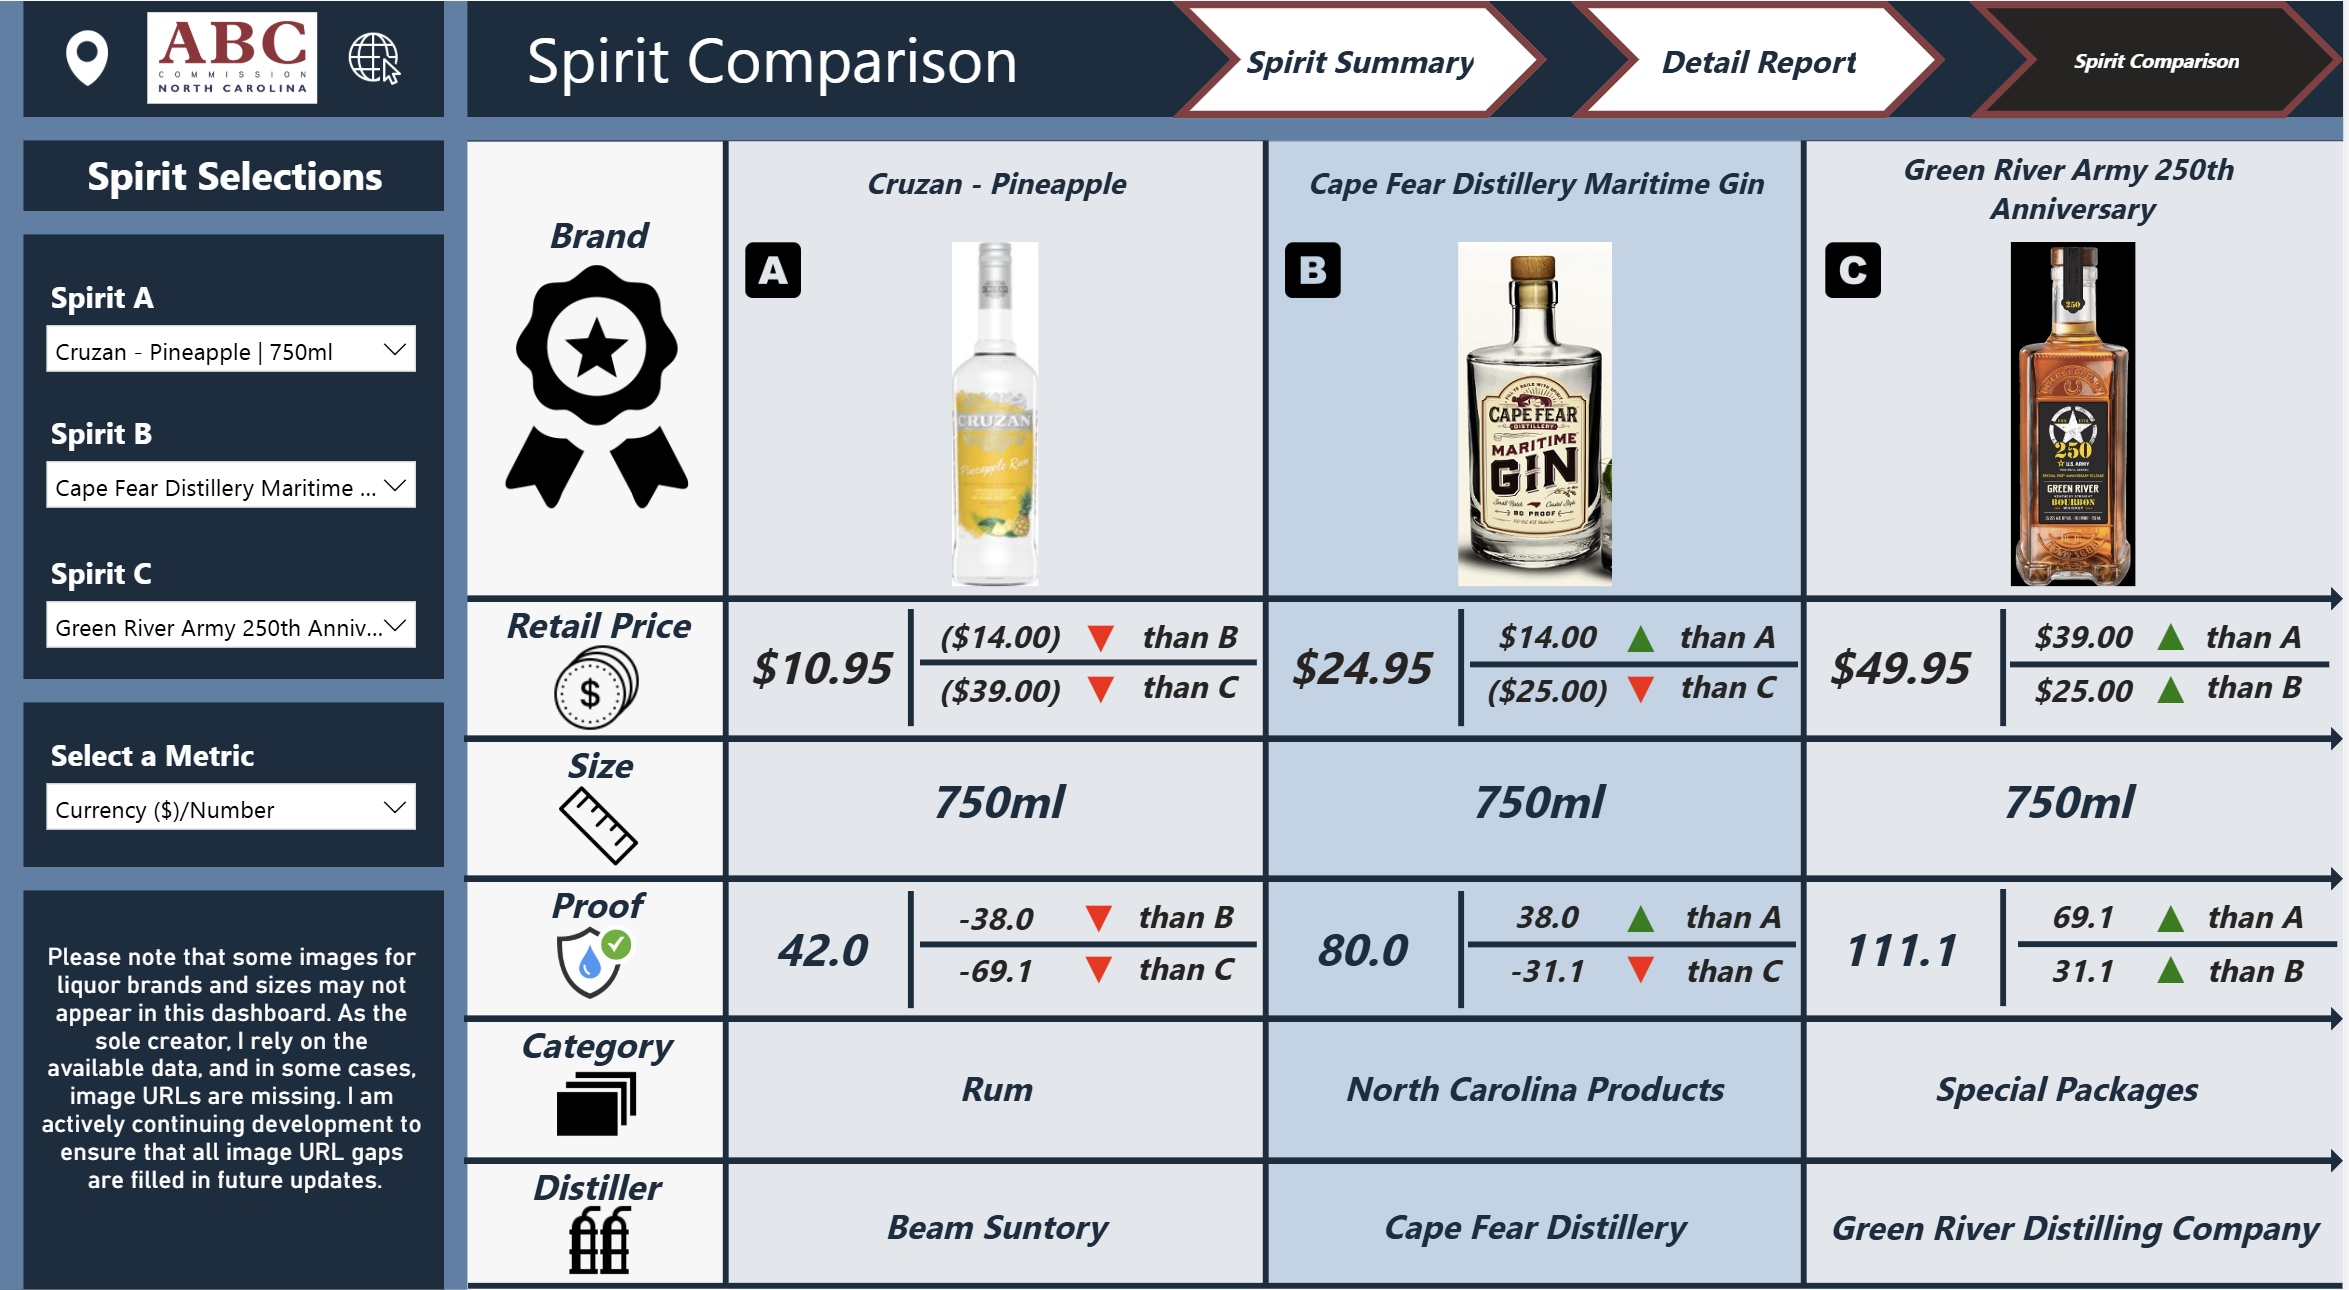

The dashboard page shown, as its layout file describes it:
{"tool":"powerbi","page":{"name":"Spirit Comparison","canvas":[1600,900],"ordinal":2},"visuals":[{"type":"shape","box":[0,16,304,880],"z":0},{"type":"shape","box":[0,16,1600,96],"z":1000},{"type":"slicer","title":"Selected Metric Slicer","fields":{"Values":["Brand 1 Table.Brand and Size"]},"box":[22,199.8,272,78],"z":1000,"group":"g1"},{"type":"slicer","title":"Selected Metric Slicer","fields":{"Values":["Brand 2 Table.Brand and Size"]},"box":[22,292.3,272,78],"z":1000,"group":"g2"},{"type":"slicer","title":"Selected Metric Slicer","fields":{"Values":["Brand 3 Table.Brand and Size"]},"box":[22,388.3,272,78],"z":2000},{"type":"textbox","box":[208,20,640,80],"z":3000},{"type":"image","box":[96,15,126,80],"z":4000},{"type":"actionButton","title":"Supplier Info Icon","box":[1504,438,32,32],"z":5000},{"type":"shape","box":[1232,112,368,784],"z":6000},{"type":"shape","box":[497,112,368,784],"z":7000},{"type":"shape","box":[864,111,368,785],"z":8000},{"type":"shape","box":[317,416,1283,16],"z":9000},{"type":"shape","box":[432,111,128,784],"z":10000},{"type":"shape","box":[800,111,128,784],"z":11000},{"type":"shape","box":[1168,111,128,784],"z":12000},{"type":"card","fields":{"Values":["Min(Metric Selector.Proof Heading)"]},"box":[318.9,602.4,176,64],"z":13000},{"type":"card","fields":{"Values":["Min(Metric Selector.Size Heading)"]},"box":[320.3,506.5,176,64],"z":14000},{"type":"card","fields":{"Values":["Min(Metric Selector.Retail Price Heading)"]},"box":[319.6,410.9,176,64],"z":15000},{"type":"card","fields":{"Values":["Min(Metric Selector.Category Heading)"]},"box":[318.9,698.4,176,64],"z":16000},{"type":"card","fields":{"Values":["Min(Metric Selector.Distiller Heading)"]},"box":[318.9,794.4,176,64],"z":17000},{"type":"image","box":[368.3,547.5,80,64],"z":18000},{"type":"image","box":[368,640,80,64],"z":19000},{"type":"image","box":[368,738,80,64],"z":20000},{"type":"simpleImageEBC4593F96F1425FB3D84C5BF02B5075","fields":{"imageURL":["Brand 1 Table.Product Image"]},"box":[496,176,368,245],"z":21000},{"type":"card","fields":{"Values":["Sum(Brand 1 Table.Retail Price)"]},"box":[496,432,128,80],"z":22000},{"type":"card","fields":{"Values":["Min(Brand 1 Table.Size (ml/L))"]},"box":[496.3,523,368,80],"z":23000},{"type":"card","fields":{"Values":["Sum(Brand 1 Table.Proof)"]},"box":[496,624,128,80],"z":24000},{"type":"card","fields":{"Values":["Min(Brand 1 Table.Product Category)"]},"box":[496,715,368,89],"z":25000},{"type":"card","fields":{"Values":["Min(Brand 1 Table.Distiller)"]},"box":[496,812,368,84],"z":26000},{"type":"card","fields":{"Values":["Min(Brand 1 Table.Brand)"]},"box":[496,102,368,80],"z":27000},{"type":"simpleImageEBC4593F96F1425FB3D84C5BF02B5075","fields":{"imageURL":["Brand 2 Table.Product Image"]},"box":[864,176,368,245],"z":28000},{"type":"card","fields":{"Values":["Sum(Brand 2 Table.Retail Price)"]},"box":[864,432,128,80],"z":29000},{"type":"card","fields":{"Values":["Min(Brand 2 Table.Size (ml/L))"]},"box":[863.9,522.5,368,80],"z":30000},{"type":"card","fields":{"Values":["Sum(Brand 2 Table.Proof)"]},"box":[864,624,128,80],"z":31000},{"type":"card","fields":{"Values":["Min(Brand 2 Table.Product Category)"]},"box":[863.5,715,368,89],"z":32000},{"type":"card","fields":{"Values":["Min(Brand 2 Table.Distiller)"]},"box":[863.5,812,368,84],"z":33000},{"type":"card","fields":{"Values":["Min(Brand 2 Table.Brand)"]},"box":[864,102,368,80],"z":34000},{"type":"image","box":[368,832,80,64],"z":35000},{"type":"simpleImageEBC4593F96F1425FB3D84C5BF02B5075","fields":{"imageURL":["Brand 3 Table.Product Image"]},"box":[1232,176,368,245],"z":36000},{"type":"card","fields":{"Values":["Sum(Brand 3 Table.Retail Price)"]},"box":[1232,432,128,80],"z":37000},{"type":"card","fields":{"Values":["Min(Brand 3 Table.Size (ml/L))"]},"box":[1226.5,523,368,80],"z":38000},{"type":"card","fields":{"Values":["Sum(Brand 3 Table.Proof)"]},"box":[1232,624,128,80],"z":39000},{"type":"card","fields":{"Values":["Min(Brand 3 Table.Product Category)"]},"box":[1226.2,715.6,368,89],"z":40000},{"type":"card","fields":{"Values":["Min(Brand 3 Table.Distiller)"]},"box":[1232,816,368,80],"z":41000},{"type":"card","fields":{"Values":["Min(Brand 3 Table.Brand)"]},"box":[1230,102.6,368,80],"z":42000},{"type":"shape","box":[303,16,16,880],"z":43000},{"type":"shape","box":[0,96,1600,16],"z":44000},{"type":"card","fields":{"Values":["Metric Selector.Make Selection Heading"]},"box":[16,112,288,48],"z":45000},{"type":"shape","box":[317,512,1283,16],"z":46000},{"type":"shape","box":[317,608,1283,16],"z":47000},{"type":"shape","box":[317,704,1283,16],"z":48000},{"type":"shape","box":[317,800,1283,16],"z":49000},{"type":"card","fields":{"Values":["Min(Metric Selector.Brand Heading)"]},"box":[320,145,176,64],"z":50000},{"type":"image","box":[368,445,80,80],"z":51000},{"type":"image","box":[320,160,176,240],"z":52000},{"type":"card","fields":{"Values":["Final Product List.Direction Arrow Price B-A"]},"box":[1088,427,64,48],"z":53000},{"type":"card","fields":{"Values":["Final Product List.Direction Arrow Price B-C"]},"box":[1088,464,64,44],"z":54000},{"type":"card","fields":{"Values":["Metric Selector.From A Text"]},"box":[1123,427.1,112,48],"z":55000},{"type":"card","fields":{"Values":["Metric Selector.From C Text"]},"box":[1123,462,112,48],"z":56000},{"type":"shape","box":[974,432,48,80],"z":57000},{"type":"card","fields":{"Values":["Final Product List.Retail Price B-A Switch"]},"box":[1003,428,106,48],"z":58000},{"type":"card","fields":{"Values":["Final Product List.Retail Price B-C Switch"]},"box":[1003,464,106,48],"z":59000},{"type":"card","fields":{"Values":["Final Product List.Direction Arrow Price A-B"]},"box":[719.6,427,64,48],"z":60000},{"type":"card","fields":{"Values":["Final Product List.Direction Arrow Price A-C"]},"box":[719.6,464,64,44],"z":61000},{"type":"card","fields":{"Values":["Metric Selector.From B Text"]},"box":[754.6,427.1,112,48],"z":62000},{"type":"card","fields":{"Values":["Metric Selector.From C Text"]},"box":[754.6,462,112,48],"z":63000},{"type":"card","fields":{"Values":["Final Product List.Retail Price A-B Switch"]},"box":[626,428,113,48],"z":64000},{"type":"card","fields":{"Values":["Final Product List.Retail Price A-C Switch"]},"box":[626,464,113,48],"z":65000},{"type":"card","fields":{"Values":["Final Product List.Direction Arrow Price C-A"]},"box":[1450,426,64,48],"z":66000},{"type":"card","fields":{"Values":["Final Product List.Direction Arrow Price C-B"]},"box":[1450,464,64,44],"z":67000},{"type":"card","fields":{"Values":["Metric Selector.From A Text"]},"box":[1482,427,112,48],"z":68000},{"type":"card","fields":{"Values":["Metric Selector.From B Text"]},"box":[1482,462,112,48],"z":69000},{"type":"card","fields":{"Values":["Final Product List.Retail Price C-A Switch"]},"box":[1368,428,106,48],"z":70000},{"type":"card","fields":{"Values":["Final Product List.Retail Price C-B Switch"]},"box":[1368,464,106,48],"z":71000},{"type":"shape","box":[1344,432,48,80],"z":72000},{"type":"shape","box":[590,432,64,80],"z":73000},{"type":"card","fields":{"Values":["Final Product List.Direction Arrow Proof A-B"]},"box":[718.1,619,64,48],"z":74000},{"type":"card","fields":{"Values":["Final Product List.Direction Arrow Proof A-C"]},"box":[718.1,656,64,44],"z":75000},{"type":"card","fields":{"Values":["Metric Selector.From B Text"]},"box":[753.1,619.1,112,48],"z":76000},{"type":"card","fields":{"Values":["Metric Selector.From C Text"]},"box":[753.1,654,112,48],"z":77000},{"type":"card","fields":{"Values":["Final Product List.Proof A-B Switch"]},"box":[626,620,106,48],"z":78000},{"type":"card","fields":{"Values":["Final Product List.Proof A-C Switch"]},"box":[626,656,106,48],"z":79000},{"type":"shape","box":[590.5,624,64,80],"z":80000},{"type":"card","fields":{"Values":["Final Product List.Direction Arrow Proof B-A"]},"box":[1088,619.1,64,48],"z":81000},{"type":"card","fields":{"Values":["Final Product List.Direction Arrow Proof B-C"]},"box":[1088,655,64,44],"z":82000},{"type":"card","fields":{"Values":["Metric Selector.From A Text"]},"box":[1127.2,619.2,112,48],"z":83000},{"type":"card","fields":{"Values":["Metric Selector.From C Text"]},"box":[1127.2,655,112,48],"z":84000},{"type":"card","fields":{"Values":["Final Product List.Proof B-A Switch"]},"box":[1003,619,106,48],"z":85000},{"type":"card","fields":{"Values":["Final Product List.Proof B-C Switch"]},"box":[1003,655,106,48],"z":86000},{"type":"shape","box":[974,624.2,48,80],"z":87000},{"type":"card","fields":{"Values":["Final Product List.Direction Arrow Proof C-A"]},"box":[1450,619,64,48],"z":88000},{"type":"card","fields":{"Values":["Final Product List.Direction Arrow Proof C-B"]},"box":[1450,655,64,44],"z":89000},{"type":"card","fields":{"Values":["Metric Selector.From A Text"]},"box":[1483.1,619,112,48],"z":90000},{"type":"card","fields":{"Values":["Metric Selector.From B Text"]},"box":[1483.1,655,112,48],"z":91000},{"type":"card","fields":{"Values":["Final Product List.Proof C-A Switch"]},"box":[1368,619,106,48],"z":92000},{"type":"card","fields":{"Values":["Final Product List.Proof C-B Switch"]},"box":[1368,655,106,48],"z":93000},{"type":"shape","box":[1344,622.8,48,80],"z":94000},{"type":"shape","box":[0,160,304,16],"z":95000},{"type":"shape","box":[0,16,16,880],"z":96000},{"type":"shape","box":[0,608,304,16],"z":97000},{"type":"image","box":[504,176,48,48],"z":98000},{"type":"image","box":[864,176,64,48],"z":99000},{"type":"image","box":[1242,176,48,48],"z":100000},{"type":"shape","box":[628,452,230,32],"z":101000},{"type":"shape","box":[628,644,230,32],"z":102000},{"type":"shape","box":[1002,644,224,32],"z":103000},{"type":"shape","box":[1004,453,224,32],"z":104000},{"type":"shape","box":[1372,453,218,32],"z":105000},{"type":"shape","box":[1378,636,218,48],"z":106000},{"type":"card","fields":{"Values":["Metric Selector.Disclaimer"]},"box":[16,608,288,272],"z":107000},{"type":"pageNavigator","box":[800,16,800,80],"z":108000},{"type":"image","box":[208,32,96,48],"z":109000},{"type":"shape","box":[319,888,1280,12],"z":110000},{"type":"group","id":"g1","title":"Left Side Slicer Group","box":[22,199.8,272,78],"z":111000},{"type":"group","id":"g2","title":"Left Side Slicer Group","box":[22,292.3,272,78],"z":112000},{"type":"image","box":[35,32,48,48],"z":113000},{"type":"slicer","title":"Selected Metric Slicer","fields":{"Values":["Currency/Number or Percent Difference Selector.Data Format"]},"box":[22,512,272,80],"z":114000},{"type":"shape","box":[0,480,304,16],"z":115000}]}

Visuals, with their boxes in screenshot pixels (x1, y1, x2, y2), scaled from the page's 1600x900 canvas onto the 2349x1290 screenshot:
shape: detection(0, 23, 446, 1284)
shape: detection(0, 23, 2348, 161)
"Selected Metric Slicer" slicer: detection(32, 286, 432, 398)
"Selected Metric Slicer" slicer: detection(32, 419, 432, 531)
"Selected Metric Slicer" slicer: detection(32, 557, 432, 668)
textbox: detection(305, 29, 1245, 143)
image: detection(141, 22, 326, 136)
"Supplier Info Icon" actionButton: detection(2208, 628, 2255, 674)
shape: detection(1809, 161, 2348, 1284)
shape: detection(730, 161, 1270, 1284)
shape: detection(1268, 159, 1809, 1284)
shape: detection(465, 596, 2348, 619)
shape: detection(634, 159, 822, 1283)
shape: detection(1174, 159, 1362, 1283)
shape: detection(1715, 159, 1903, 1283)
card - Min(Metric Selector.Proof Heading): detection(468, 863, 727, 955)
card - Min(Metric Selector.Size Heading): detection(470, 726, 729, 818)
card - Min(Metric Selector.Retail Price Heading): detection(469, 589, 728, 681)
card - Min(Metric Selector.Category Heading): detection(468, 1001, 727, 1093)
card - Min(Metric Selector.Distiller Heading): detection(468, 1139, 727, 1230)
image: detection(541, 785, 658, 876)
image: detection(540, 917, 658, 1009)
image: detection(540, 1058, 658, 1150)
simpleImageEBC4593F96F1425FB3D84C5BF02B5075 - Brand 1 Table.Product Image: detection(728, 252, 1268, 603)
card - Sum(Brand 1 Table.Retail Price): detection(728, 619, 916, 734)
card - Min(Brand 1 Table.Size (ml/L)): detection(729, 750, 1269, 864)
card - Sum(Brand 1 Table.Proof): detection(728, 894, 916, 1009)
card - Min(Brand 1 Table.Product Category): detection(728, 1025, 1268, 1152)
card - Min(Brand 1 Table.Distiller): detection(728, 1164, 1268, 1284)
card - Min(Brand 1 Table.Brand): detection(728, 146, 1268, 261)
simpleImageEBC4593F96F1425FB3D84C5BF02B5075 - Brand 2 Table.Product Image: detection(1268, 252, 1809, 603)
card - Sum(Brand 2 Table.Retail Price): detection(1268, 619, 1456, 734)
card - Min(Brand 2 Table.Size (ml/L)): detection(1268, 749, 1809, 864)
card - Sum(Brand 2 Table.Proof): detection(1268, 894, 1456, 1009)
card - Min(Brand 2 Table.Product Category): detection(1268, 1025, 1808, 1152)
card - Min(Brand 2 Table.Distiller): detection(1268, 1164, 1808, 1284)
card - Min(Brand 2 Table.Brand): detection(1268, 146, 1809, 261)
image: detection(540, 1193, 658, 1284)
simpleImageEBC4593F96F1425FB3D84C5BF02B5075 - Brand 3 Table.Product Image: detection(1809, 252, 2348, 603)
card - Sum(Brand 3 Table.Retail Price): detection(1809, 619, 1997, 734)
card - Min(Brand 3 Table.Size (ml/L)): detection(1801, 750, 2341, 864)
card - Sum(Brand 3 Table.Proof): detection(1809, 894, 1997, 1009)
card - Min(Brand 3 Table.Product Category): detection(1800, 1026, 2340, 1153)
card - Min(Brand 3 Table.Distiller): detection(1809, 1170, 2348, 1284)
card - Min(Brand 3 Table.Brand): detection(1806, 147, 2346, 262)
shape: detection(445, 23, 468, 1284)
shape: detection(0, 138, 2348, 161)
card - Metric Selector.Make Selection Heading: detection(23, 161, 446, 229)
shape: detection(465, 734, 2348, 757)
shape: detection(465, 871, 2348, 894)
shape: detection(465, 1009, 2348, 1032)
shape: detection(465, 1147, 2348, 1170)
card - Min(Metric Selector.Brand Heading): detection(470, 208, 728, 300)
image: detection(540, 638, 658, 752)
image: detection(470, 229, 728, 573)
card - Final Product List.Direction Arrow Price B-A: detection(1597, 612, 1691, 681)
card - Final Product List.Direction Arrow Price B-C: detection(1597, 665, 1691, 728)
card - Metric Selector.From A Text: detection(1649, 612, 1813, 681)
card - Metric Selector.From C Text: detection(1649, 662, 1813, 731)
shape: detection(1430, 619, 1500, 734)
card - Final Product List.Retail Price B-A Switch: detection(1473, 613, 1628, 682)
card - Final Product List.Retail Price B-C Switch: detection(1473, 665, 1628, 734)
card - Final Product List.Direction Arrow Price A-B: detection(1056, 612, 1150, 681)
card - Final Product List.Direction Arrow Price A-C: detection(1056, 665, 1150, 728)
card - Metric Selector.From B Text: detection(1108, 612, 1272, 681)
card - Metric Selector.From C Text: detection(1108, 662, 1272, 731)
card - Final Product List.Retail Price A-B Switch: detection(919, 613, 1085, 682)
card - Final Product List.Retail Price A-C Switch: detection(919, 665, 1085, 734)
card - Final Product List.Direction Arrow Price C-A: detection(2129, 611, 2223, 679)
card - Final Product List.Direction Arrow Price C-B: detection(2129, 665, 2223, 728)
card - Metric Selector.From A Text: detection(2176, 612, 2340, 681)
card - Metric Selector.From B Text: detection(2176, 662, 2340, 731)
card - Final Product List.Retail Price C-A Switch: detection(2008, 613, 2164, 682)
card - Final Product List.Retail Price C-B Switch: detection(2008, 665, 2164, 734)
shape: detection(1973, 619, 2044, 734)
shape: detection(866, 619, 960, 734)
card - Final Product List.Direction Arrow Proof A-B: detection(1054, 887, 1148, 956)
card - Final Product List.Direction Arrow Proof A-C: detection(1054, 940, 1148, 1003)
card - Metric Selector.From B Text: detection(1106, 887, 1270, 956)
card - Metric Selector.From C Text: detection(1106, 937, 1270, 1006)
card - Final Product List.Proof A-B Switch: detection(919, 889, 1075, 957)
card - Final Product List.Proof A-C Switch: detection(919, 940, 1075, 1009)
shape: detection(867, 894, 961, 1009)
card - Final Product List.Direction Arrow Proof B-A: detection(1597, 887, 1691, 956)
card - Final Product List.Direction Arrow Proof B-C: detection(1597, 939, 1691, 1002)
card - Metric Selector.From A Text: detection(1655, 888, 1819, 956)
card - Metric Selector.From C Text: detection(1655, 939, 1819, 1008)
card - Final Product List.Proof B-A Switch: detection(1473, 887, 1628, 956)
card - Final Product List.Proof B-C Switch: detection(1473, 939, 1628, 1008)
shape: detection(1430, 895, 1500, 1009)
card - Final Product List.Direction Arrow Proof C-A: detection(2129, 887, 2223, 956)
card - Final Product List.Direction Arrow Proof C-B: detection(2129, 939, 2223, 1002)
card - Metric Selector.From A Text: detection(2177, 887, 2342, 956)
card - Metric Selector.From B Text: detection(2177, 939, 2342, 1008)
card - Final Product List.Proof C-A Switch: detection(2008, 887, 2164, 956)
card - Final Product List.Proof C-B Switch: detection(2008, 939, 2164, 1008)
shape: detection(1973, 893, 2044, 1007)
shape: detection(0, 229, 446, 252)
shape: detection(0, 23, 23, 1284)
shape: detection(0, 871, 446, 894)
image: detection(740, 252, 810, 321)
image: detection(1268, 252, 1362, 321)
image: detection(1823, 252, 1894, 321)
shape: detection(922, 648, 1260, 694)
shape: detection(922, 923, 1260, 969)
shape: detection(1471, 923, 1800, 969)
shape: detection(1474, 649, 1803, 695)
shape: detection(2014, 649, 2334, 695)
shape: detection(2023, 912, 2343, 980)
card - Metric Selector.Disclaimer: detection(23, 871, 446, 1261)
pageNavigator: detection(1174, 23, 2348, 138)
image: detection(305, 46, 446, 115)
shape: detection(468, 1273, 2348, 1289)
"Left Side Slicer Group" group: detection(32, 286, 432, 398)
"Left Side Slicer Group" group: detection(32, 419, 432, 531)
image: detection(51, 46, 122, 115)
"Selected Metric Slicer" slicer: detection(32, 734, 432, 849)
shape: detection(0, 688, 446, 711)
